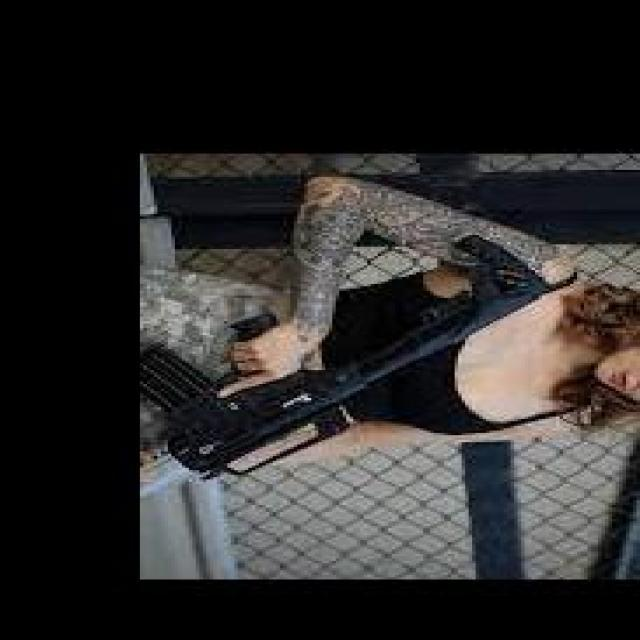Rifle: (142, 233, 556, 501)
